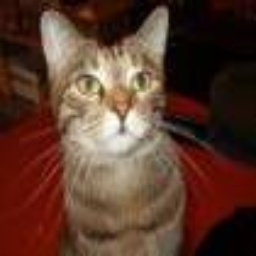cat: (33, 16, 201, 256)
